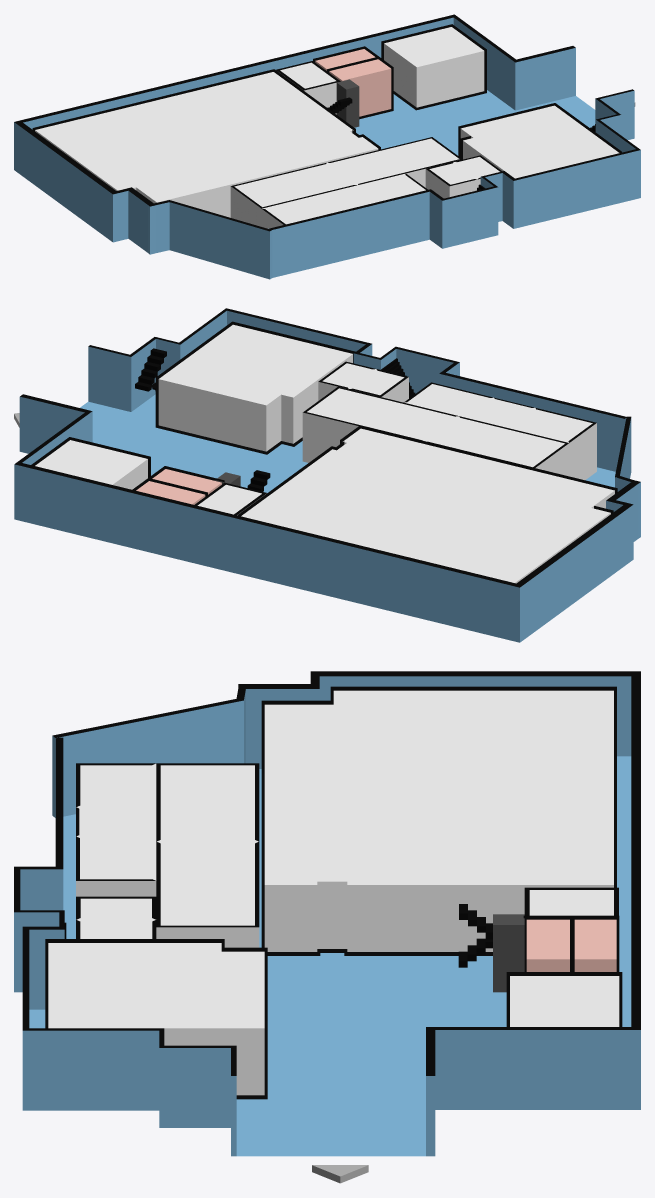
The picture shows the model from 3 angles, top to bottom: view 1: azimuth 30°, elevation 25°; view 2: azimuth 150°, elevation 25°; view 3: azimuth 270°, elevation 25°; orthographic projection. The views are drawn at different scales.
Visible parts, largest first — view 1: object, room_L_1_2, room_L_1_3, room_L_1_1, トイレ_L_1_2, object_line, object_line.003, エレベーター_L_1_1, object_line.004, トイレ_L_1_1, object_line.002; view 2: object, room_L_1_2, room_L_1_3, room_L_1_1, object_line, object_line.004, トイレ_L_1_2, トイレ_L_1_1, 階段_L_1_3, object_line.003; view 3: object, room_L_1_2, room_L_1_3, room_L_1_1, object_line, トイレ_L_1_2, トイレ_L_1_1, エレベーター_L_1_1, object_line.004, 階段_L_1_1, object_line.003, transitionTo_L_1_1.
Boxes of the visible parts, box(x1,y1,x2,y2) form: object: box(14, 14, 640, 279); room_L_1_2: box(35, 72, 378, 217); room_L_1_3: box(460, 105, 619, 178); room_L_1_1: box(384, 27, 484, 107); トイレ_L_1_2: box(329, 59, 391, 116); object_line: box(32, 69, 380, 149); object_line.003: box(381, 24, 486, 110); エレベーター_L_1_1: box(336, 79, 359, 127); object_line.004: box(458, 103, 621, 158); トイレ_L_1_1: box(315, 49, 375, 70); object_line.002: box(327, 56, 393, 119); object: box(14, 308, 640, 642); room_L_1_2: box(241, 428, 614, 583); room_L_1_3: box(158, 324, 352, 451); room_L_1_1: box(35, 440, 147, 489); object_line: box(237, 425, 617, 516); object_line.004: box(155, 321, 355, 454); トイレ_L_1_2: box(152, 469, 221, 494); トイレ_L_1_1: box(136, 481, 205, 504); 階段_L_1_3: box(135, 348, 166, 391); object_line.003: box(31, 437, 150, 477); object: box(14, 671, 640, 1156); room_L_1_2: box(264, 690, 613, 951); room_L_1_3: box(48, 943, 264, 1095); room_L_1_1: box(510, 976, 619, 1026); object_line: box(261, 686, 616, 955); トイレ_L_1_2: box(526, 919, 569, 971); トイレ_L_1_1: box(574, 919, 616, 971); エレベーター_L_1_1: box(493, 914, 524, 992); object_line.004: box(45, 939, 267, 1099); 階段_L_1_1: box(458, 904, 492, 967); object_line.003: box(506, 972, 622, 1026); transitionTo_L_1_1: box(312, 1165, 368, 1183).
Bounding box in the file's own units: 2.52 × 0.2222 × 1.54.
